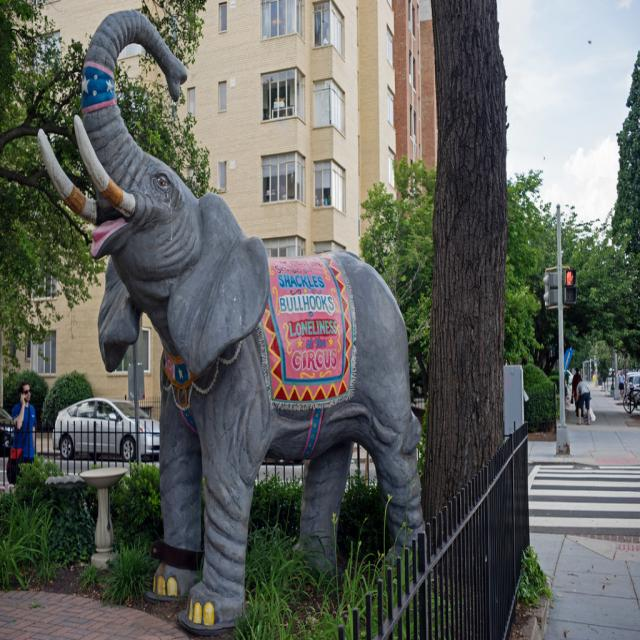elephant: (59, 87, 415, 610)
